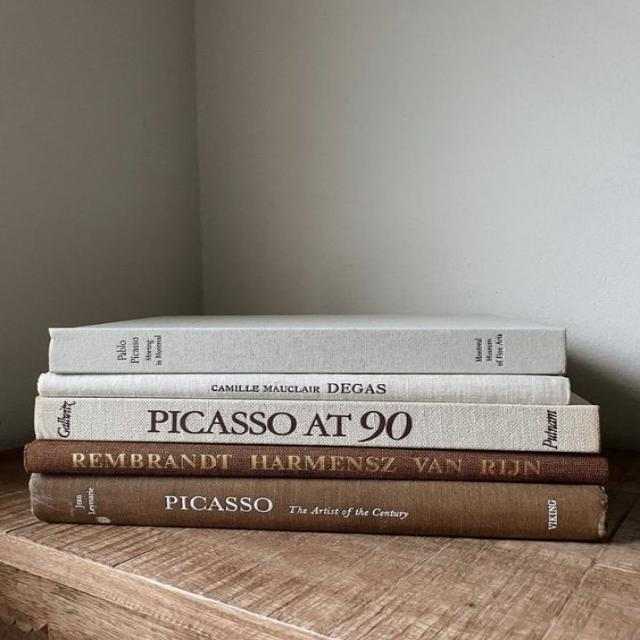book: (30, 474, 608, 541), (35, 396, 599, 453), (49, 316, 565, 374), (25, 441, 607, 484), (39, 373, 570, 404)
